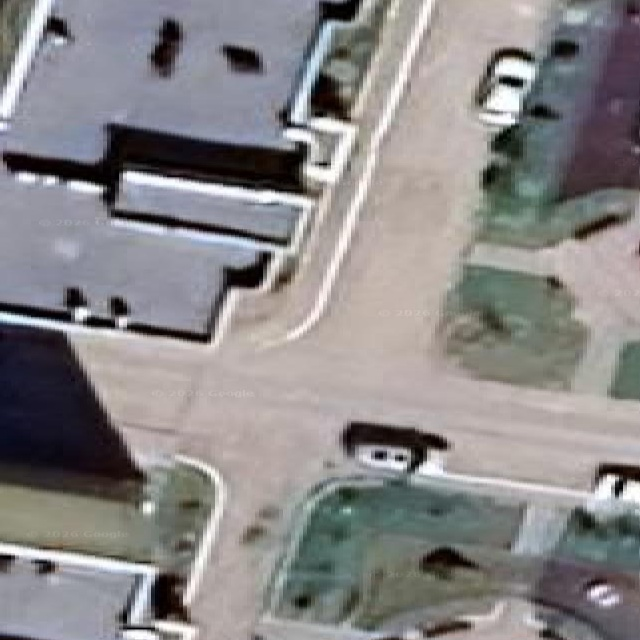car: (342, 422, 448, 472), (475, 49, 535, 128)
